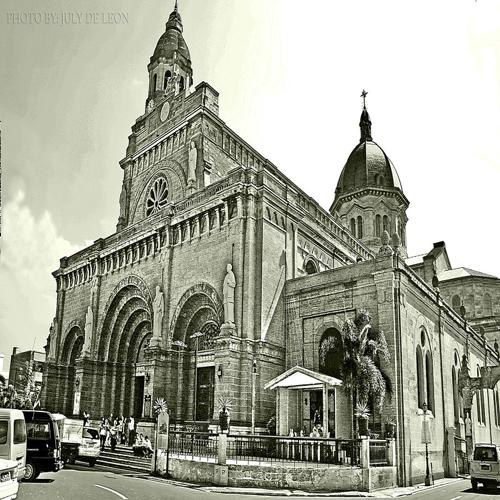Manila Cathedral Church: (33, 1, 444, 490)
